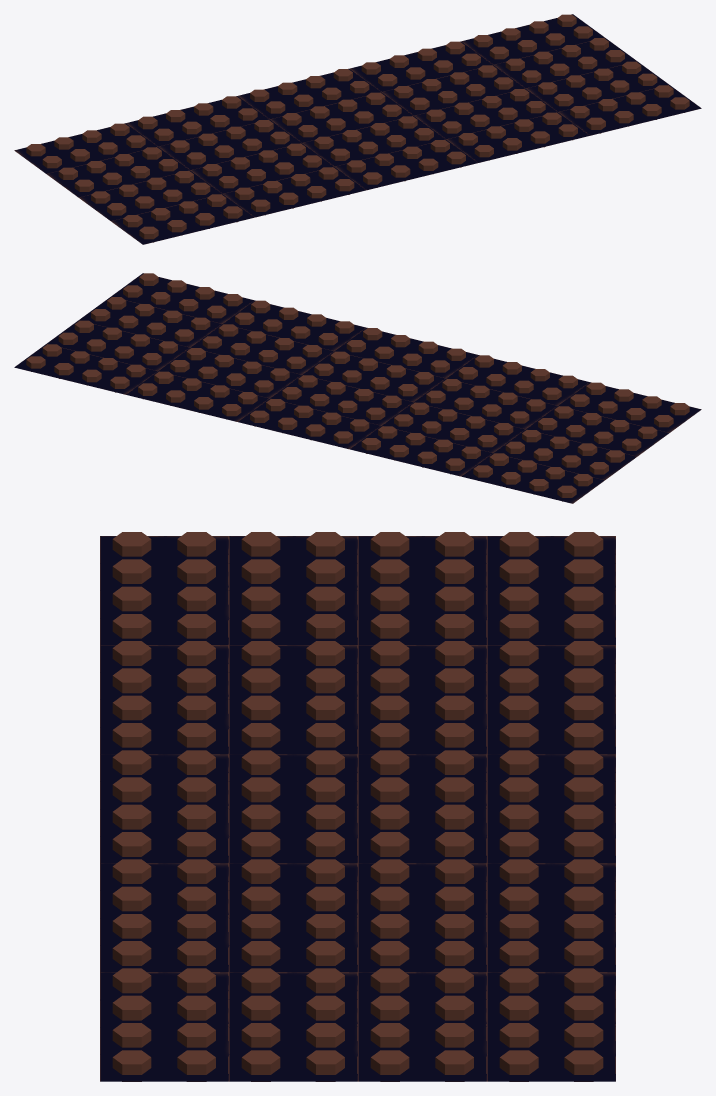
File: terreno_rua_reta.obj
The picture shows the model from 3 angles, top to bottom: view 1: azimuth 30°, elevation 25°; view 2: azimuth 150°, elevation 25°; view 3: azimuth 270°, elevation 25°; orthographic projection. The views are drawn at different scales.
Visible parts, largest first — view 1: Cube.001_Cube.000; view 2: Cube.001_Cube.000; view 3: Cube.001_Cube.000.
Boxes of the visible parts, x1,y1,x2,y2 form: Cube.001_Cube.000: (14, 14, 701, 244); Cube.001_Cube.000: (14, 273, 701, 503); Cube.001_Cube.000: (100, 532, 615, 1081).
Bounding box in the file's own units: 20 × 0.3 × 8.
Materials: 1 (1 with a texture image).
